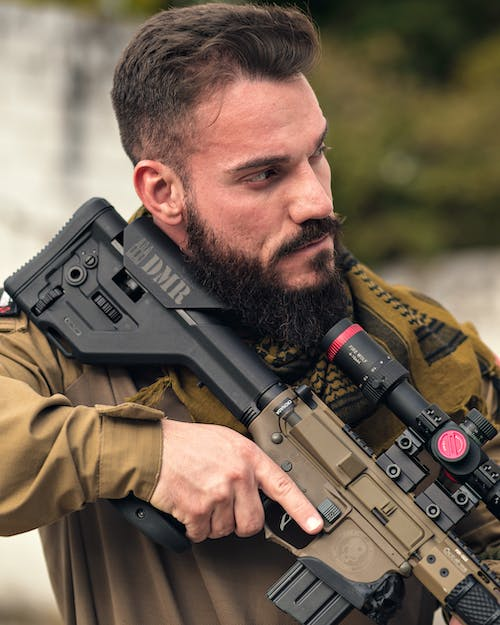gun: (0, 191, 500, 625)
